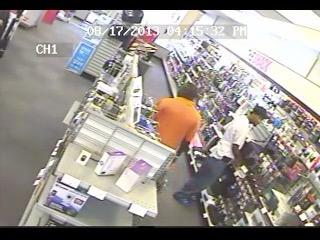shoplifting: (212, 157, 254, 196)
